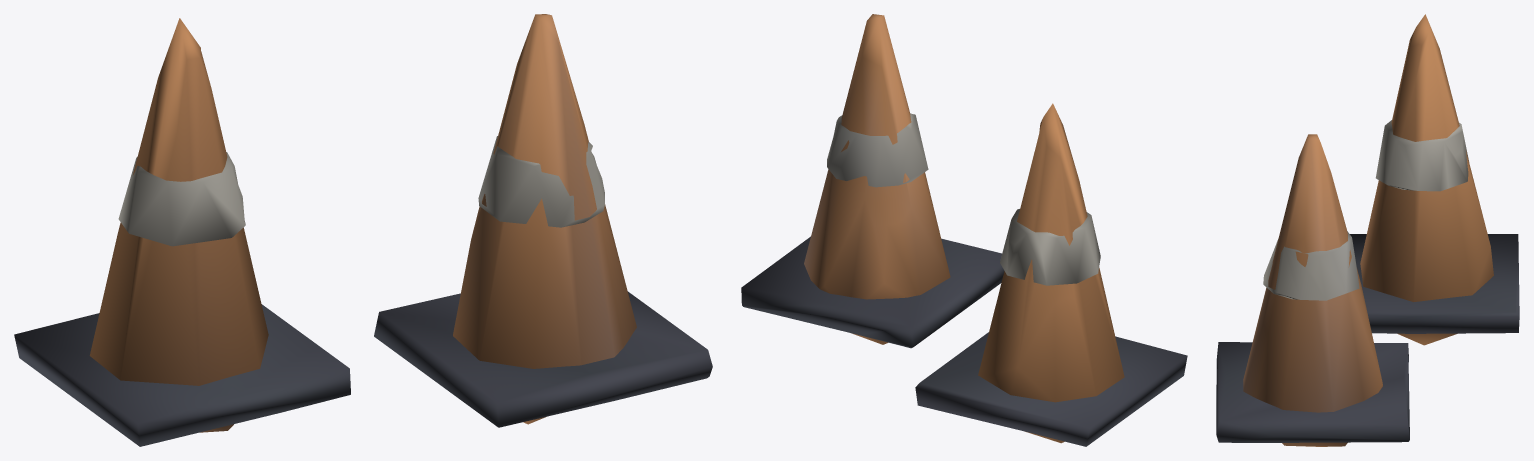
File: bay_cones.glb
3 views of the same model, side by side, from view 1: azimuth 30°, elevation 25°; view 2: azimuth 150°, elevation 25°; view 3: azimuth 270°, elevation 25° (orthographic). The views are drawn at different scales.
Parts seen in each view (by area): view 1: cones; view 2: cones; view 3: cones.
Part boxes in pixels (<box>): cones: <box>14,14,712,446</box>; cones: <box>741,14,1187,446</box>; cones: <box>1216,14,1519,446</box>.
Bounding box in the file's own units: 0.7378 × 0.5805 × 0.4933.
